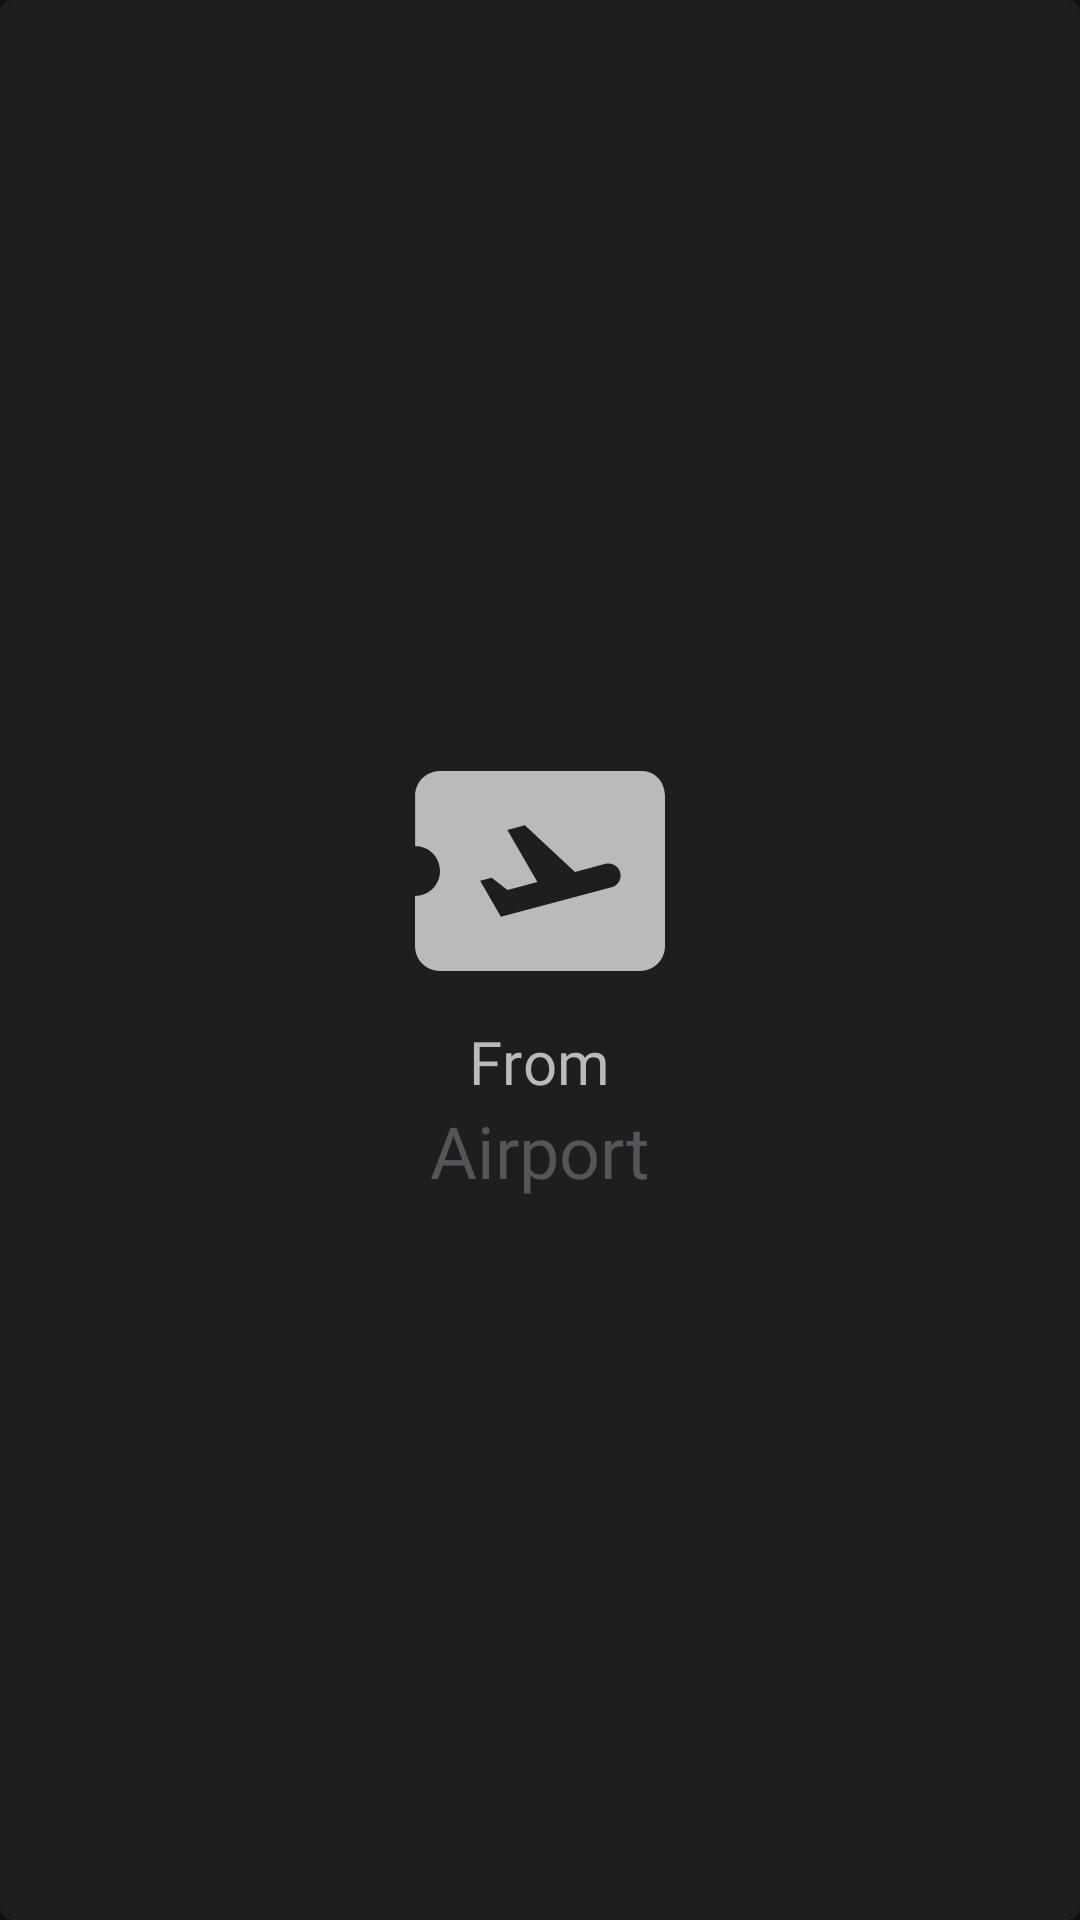

Locate icon controls on the screen. Image size 1080w x 1920h, boxes as (left=x1, top=y1, right=x2, bottom=y2).
airplane ticket: (left=415, top=771, right=665, bottom=971)
